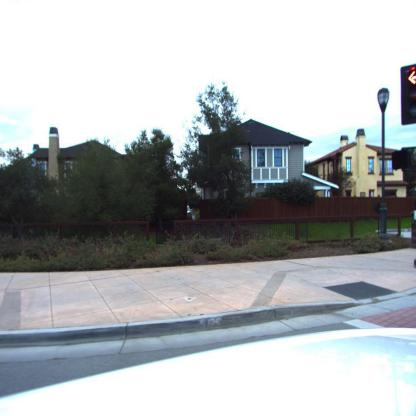traffic light: (392, 148, 416, 193), (401, 64, 416, 126)
